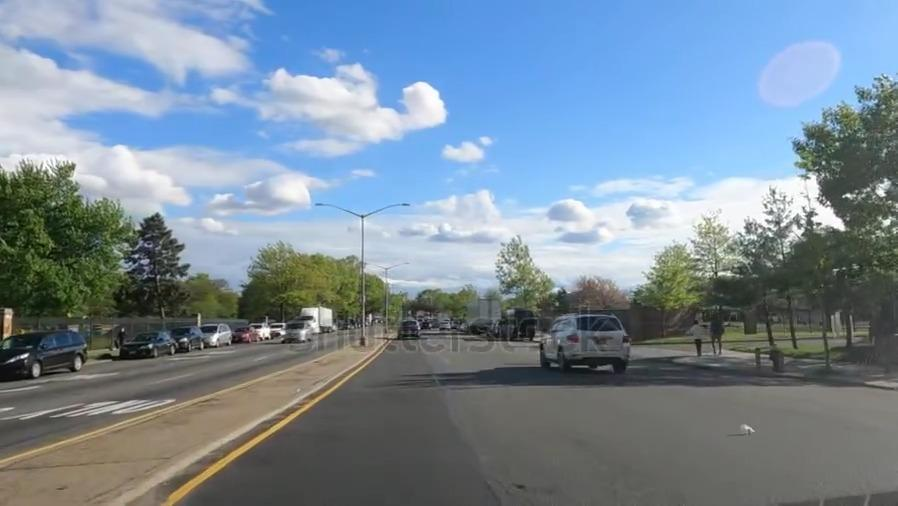car: (533, 315, 637, 371), (7, 327, 91, 385), (126, 332, 173, 357), (198, 323, 227, 349), (285, 322, 313, 343), (172, 326, 195, 350), (232, 323, 251, 344), (399, 318, 419, 337), (251, 321, 264, 341), (271, 320, 283, 339)
person: (711, 312, 725, 357), (690, 316, 707, 353), (113, 323, 126, 344)
rubbish: (744, 419, 757, 439)
truck: (306, 307, 337, 332)
